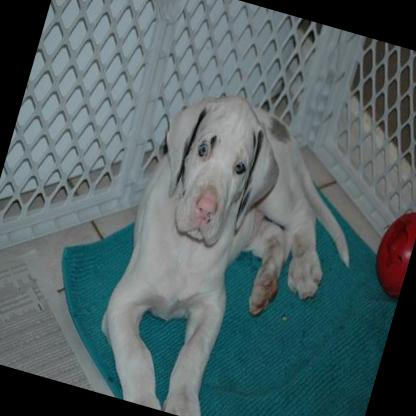Great_Dane: (82, 78, 387, 416)
